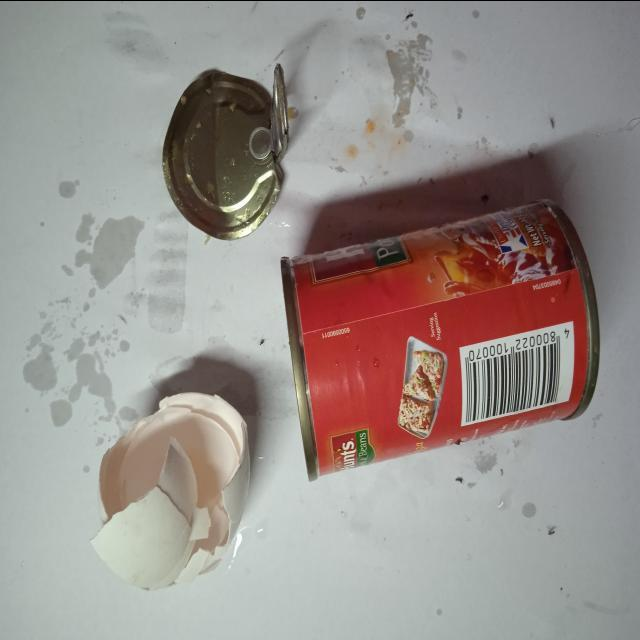egg shell: (80, 354, 260, 602)
